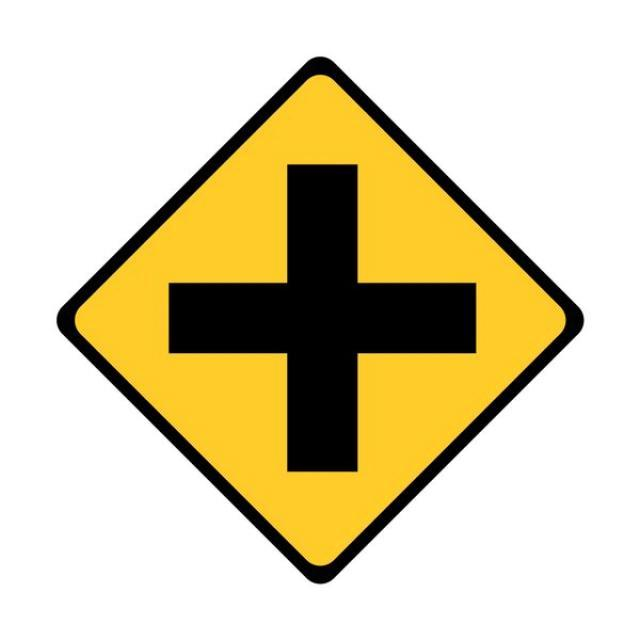Persimpangan 4: (56, 51, 584, 587)
